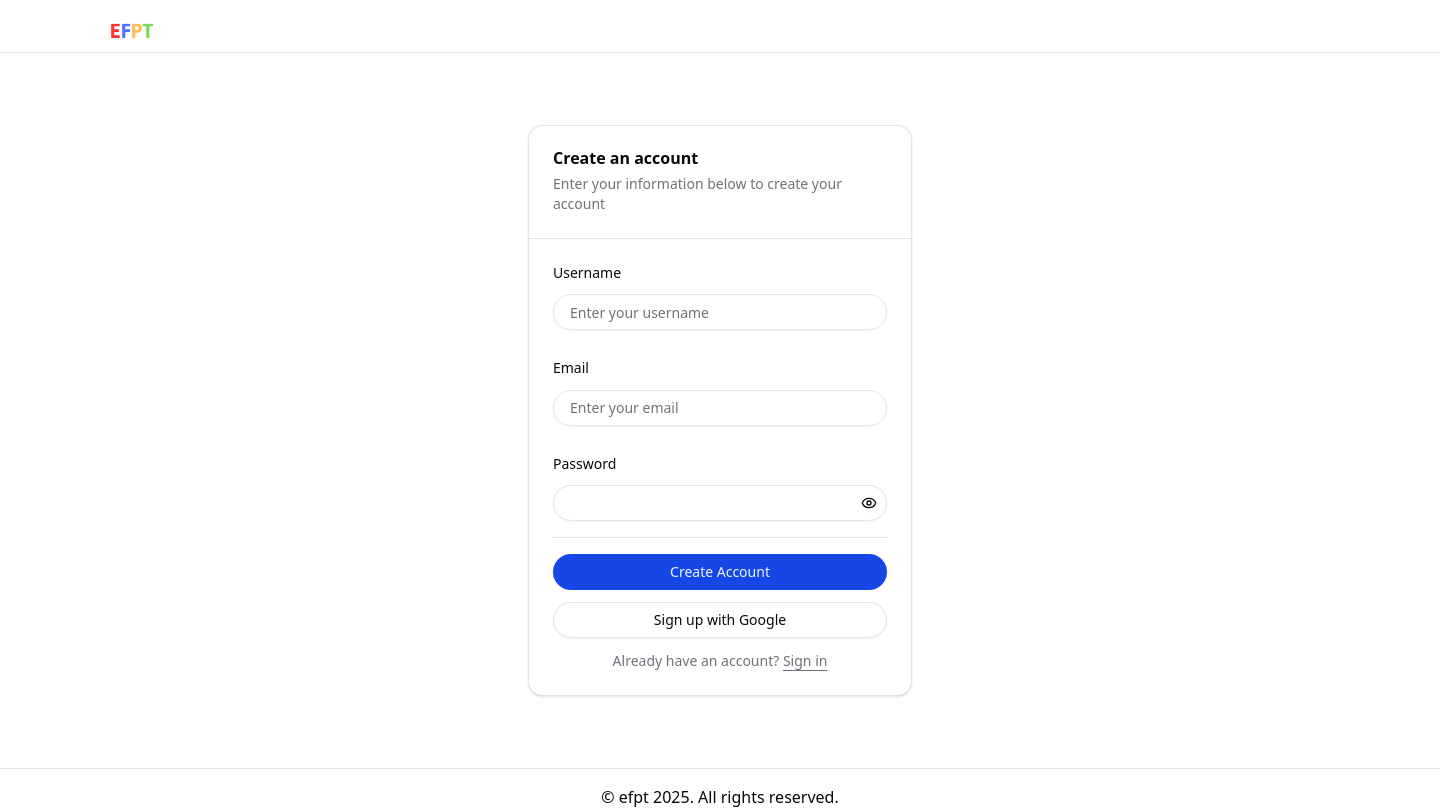
Test case: Frontend form validation demo › shows signup validation messages on empty submit
This screenshot has width=1440, height=812.
Click the button "Create Account" at (720, 572), box [553,554,887,590]
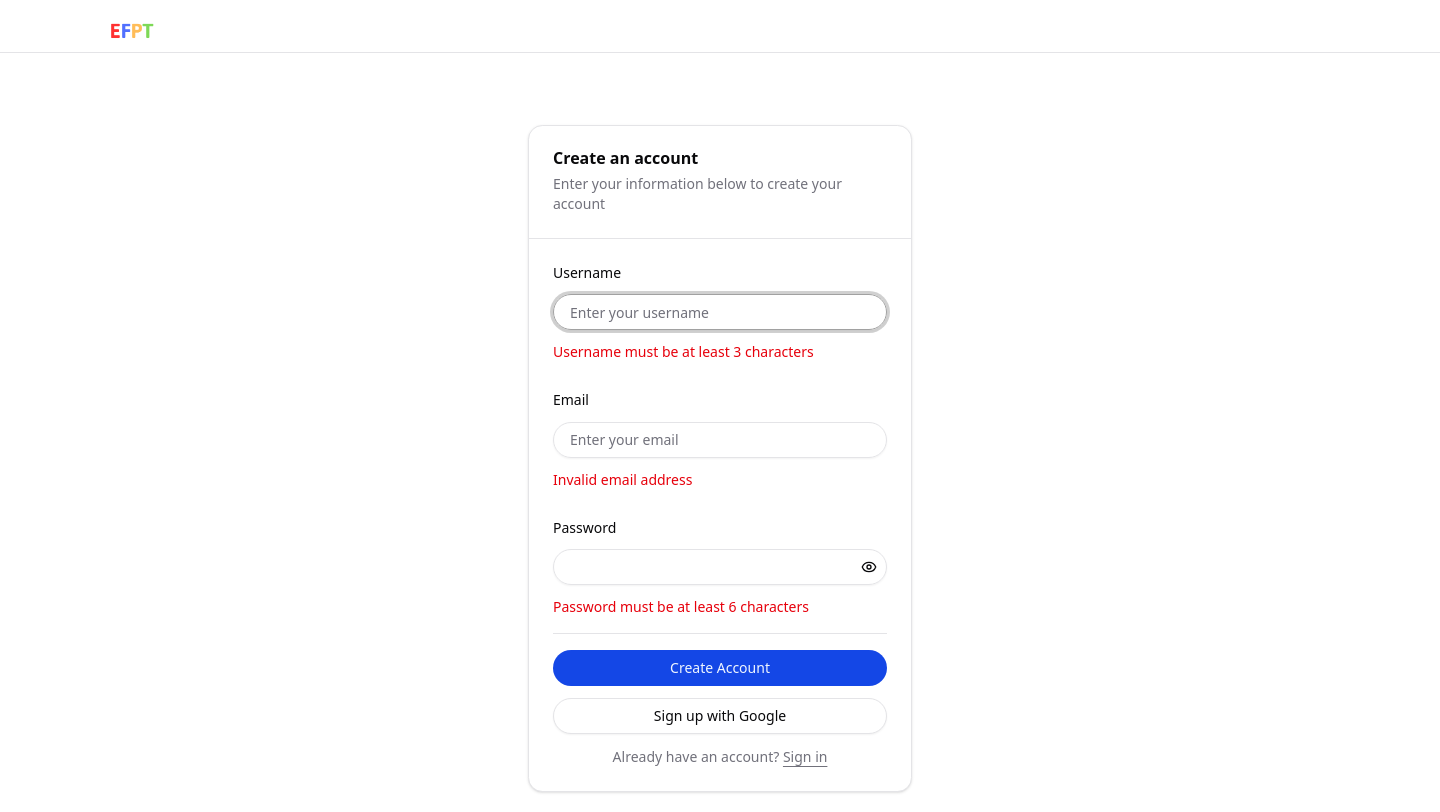
Expected: the text "Username must be at least 3 characters" is shown, [553,342,814,361]
Expected: the text "Invalid email address" is shown, [553,470,692,488]
Expected: the text "Password must be at least 6 characters" is shown, [553,597,809,616]
